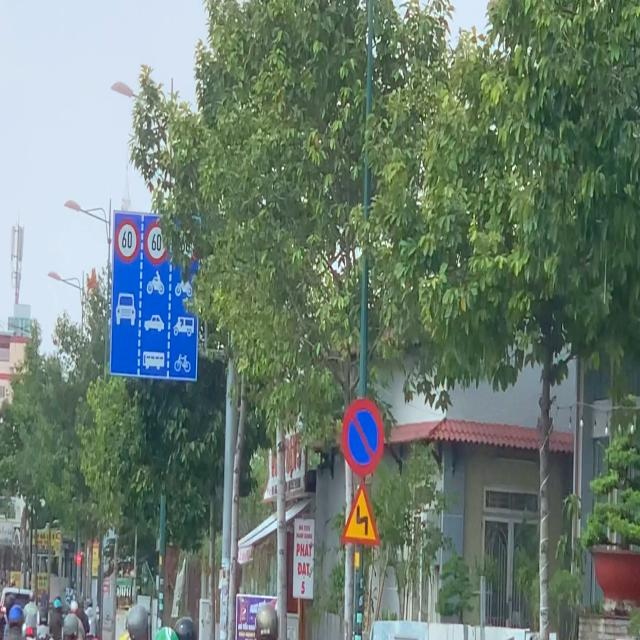Cam do: (339, 395, 385, 477)
Nguy hiem: (338, 478, 381, 552)
Toc do toi da: (143, 222, 173, 266), (114, 221, 142, 257)
